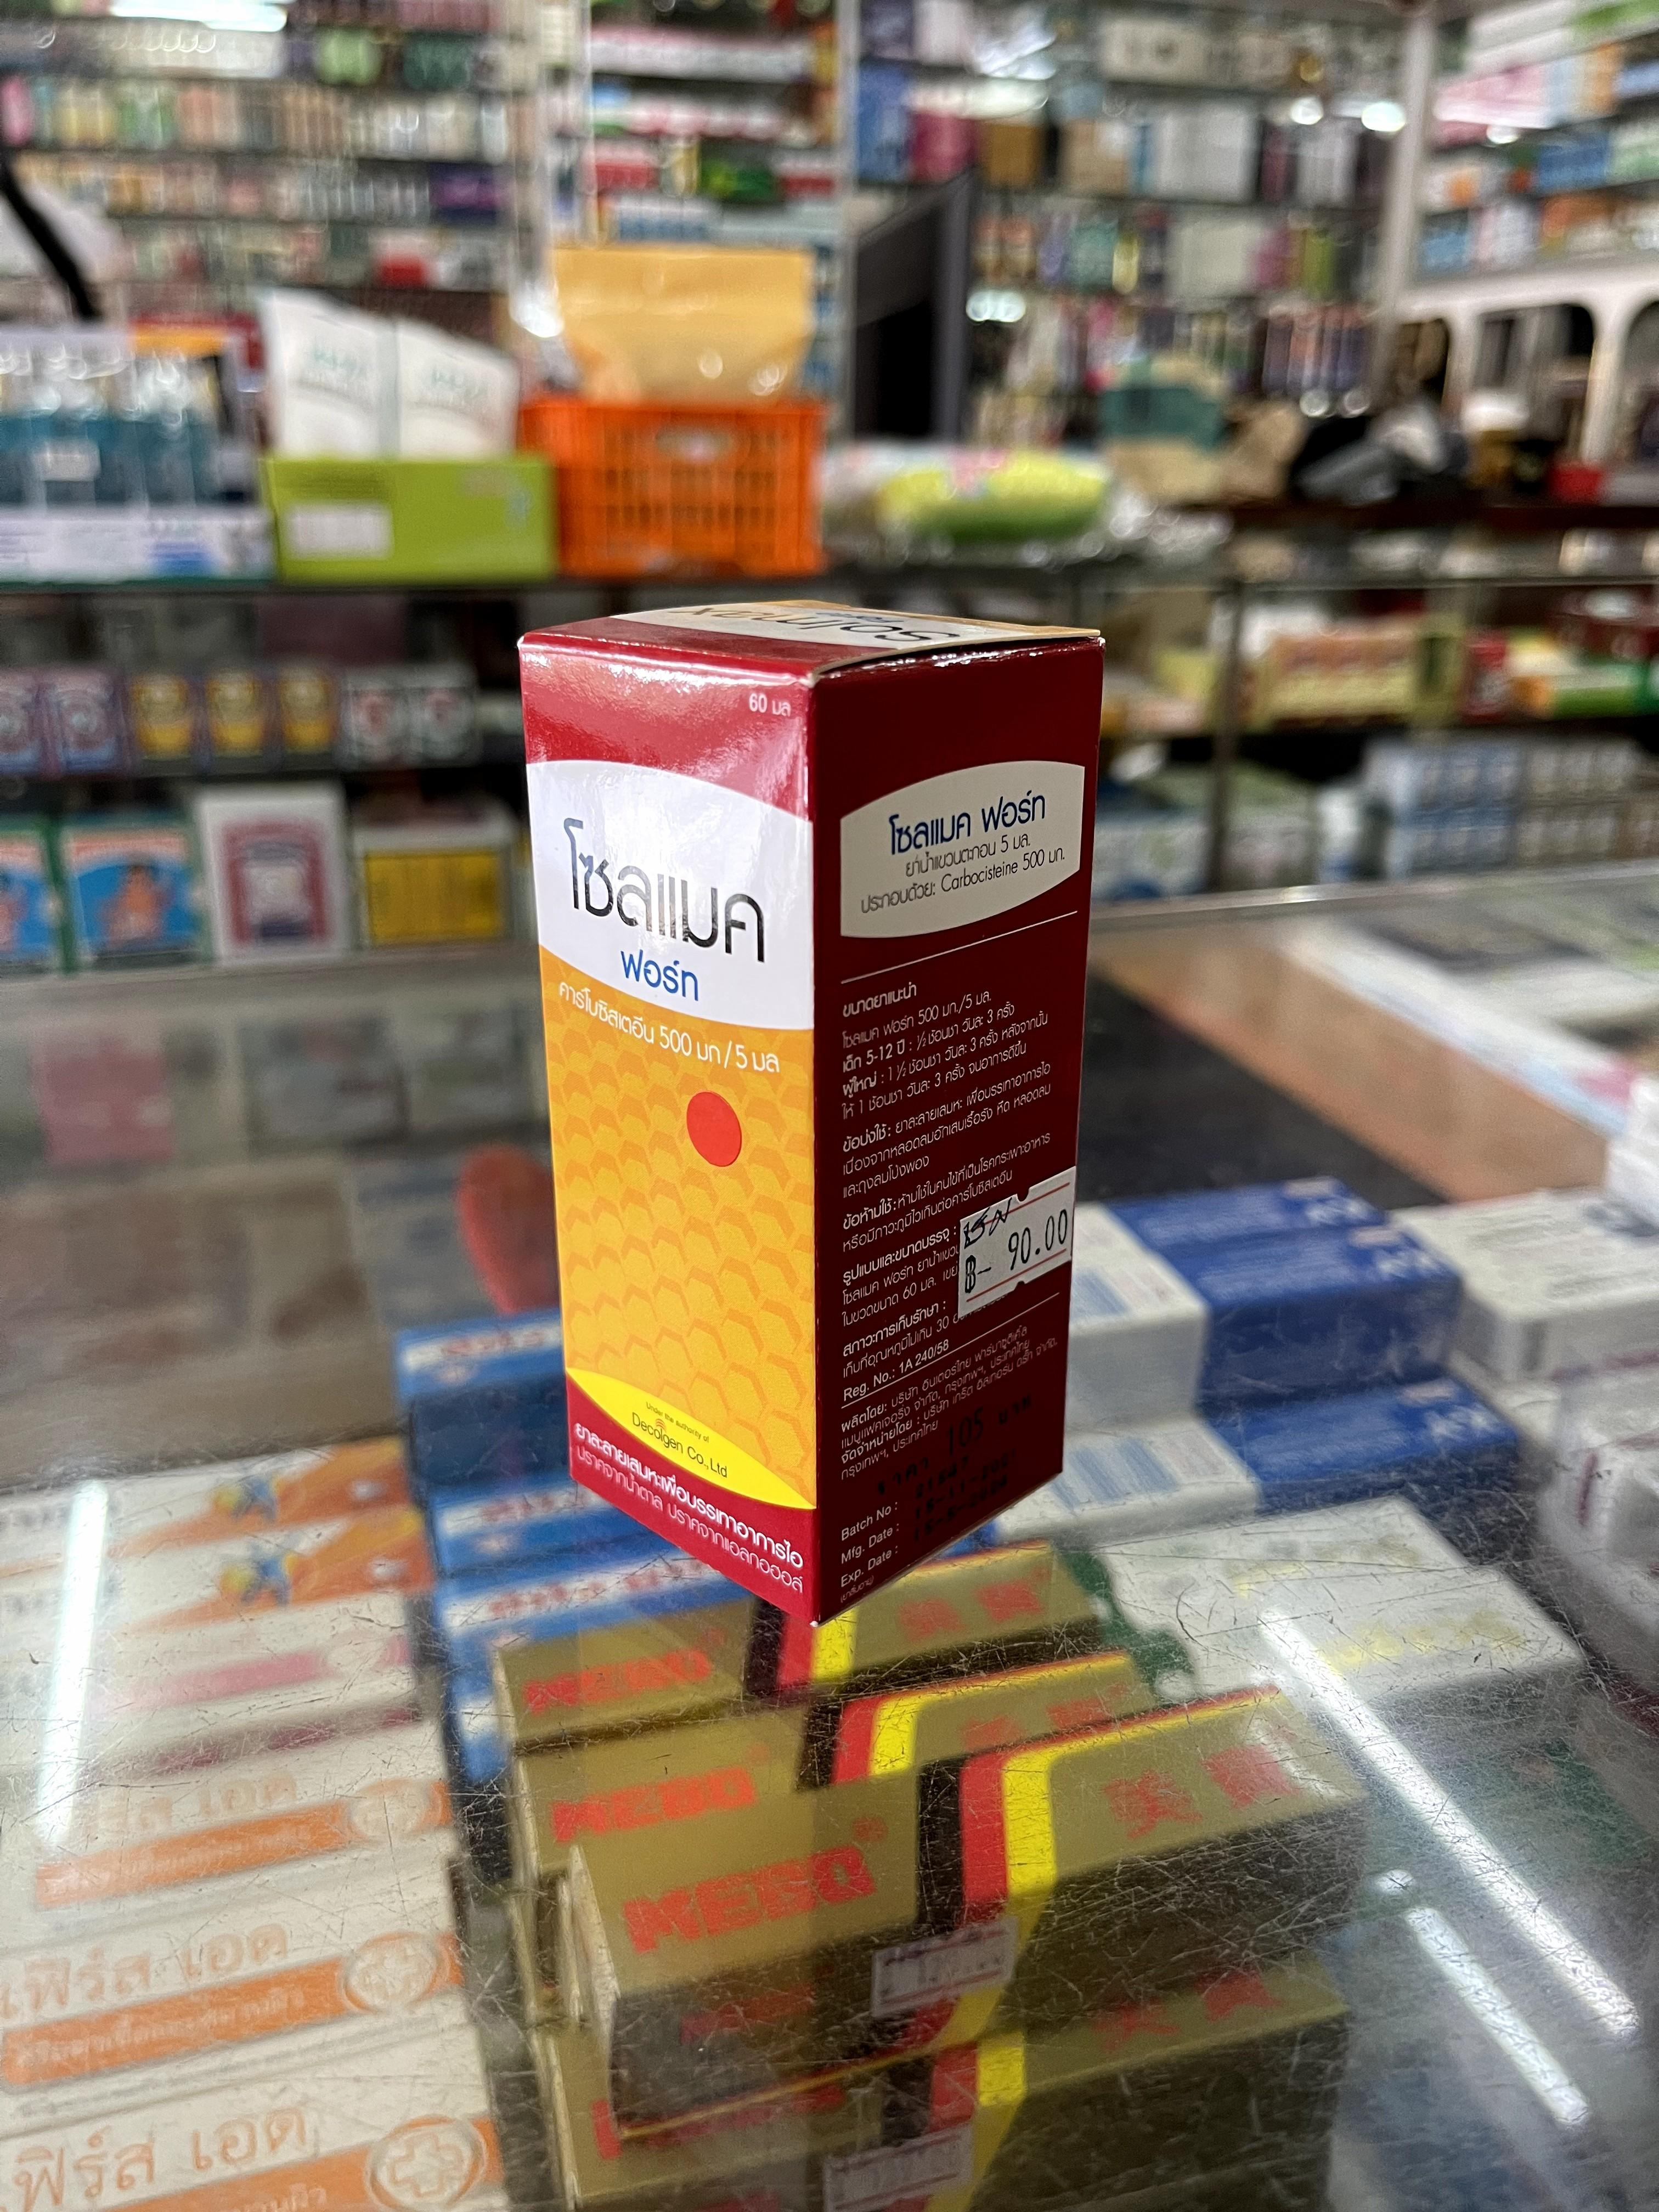Solmax: (526, 601, 1105, 1623)
